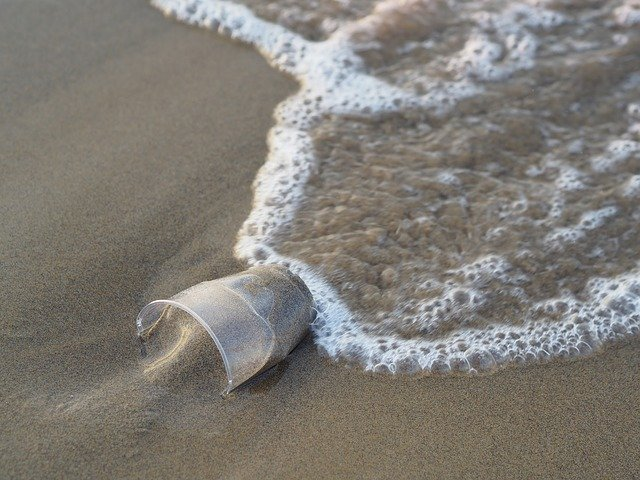cup: (129, 257, 323, 400)
